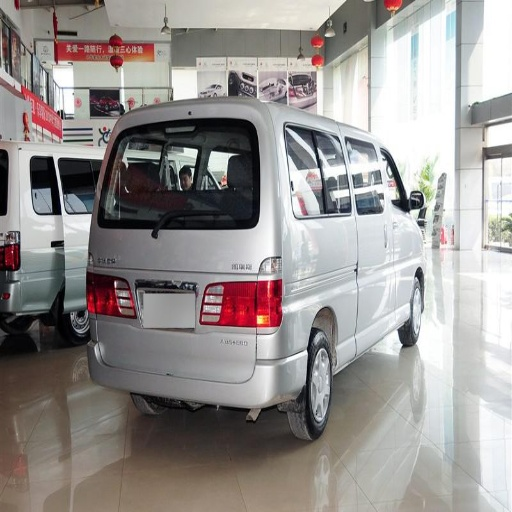back_bumper: (88, 317, 309, 409)
back_glass: (99, 120, 261, 226)
trunk: (104, 219, 389, 381)
